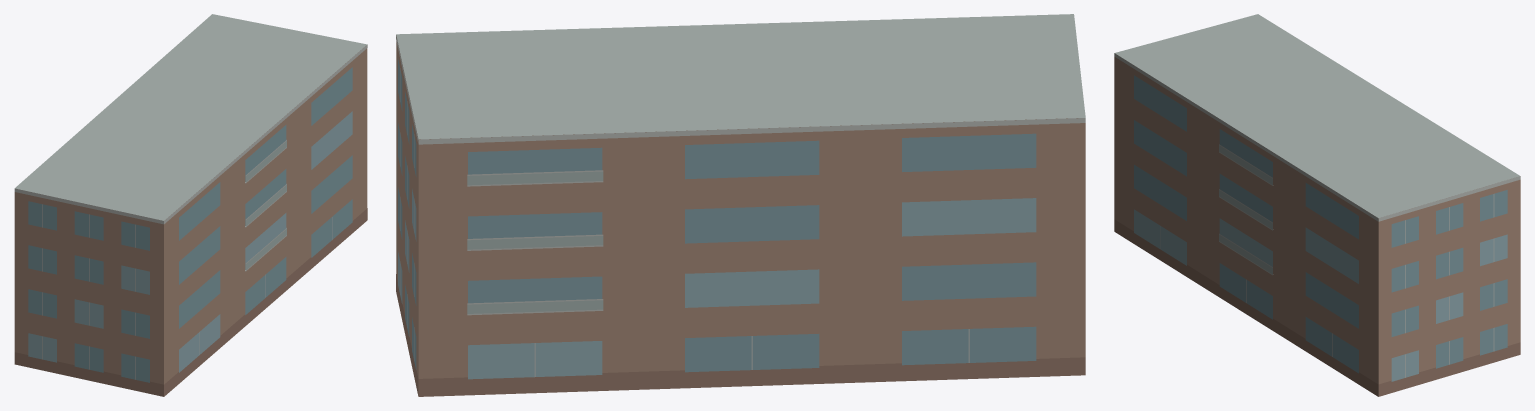
File: survey-upis-32739825.glb
The picture shows the model from 3 angles, left to right: view 1: azimuth 30°, elevation 25°; view 2: azimuth 150°, elevation 25°; view 3: azimuth 270°, elevation 25°; orthographic projection. The views are drawn at different scales.
Parts seen in each view (by area): view 1: survey-upis-32739825.tmp; view 2: survey-upis-32739825.tmp; view 3: survey-upis-32739825.tmp.
Boxes of the visible parts, box(x1,y1,x2,y2) form: survey-upis-32739825.tmp: box(14, 14, 367, 396); survey-upis-32739825.tmp: box(396, 14, 1085, 396); survey-upis-32739825.tmp: box(1114, 14, 1520, 396).
Bounding box in the file's own units: 29.91 × 12.2 × 25.13.
